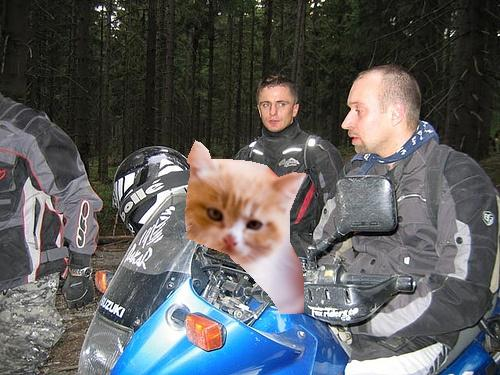tampered: (186, 141, 306, 314)
